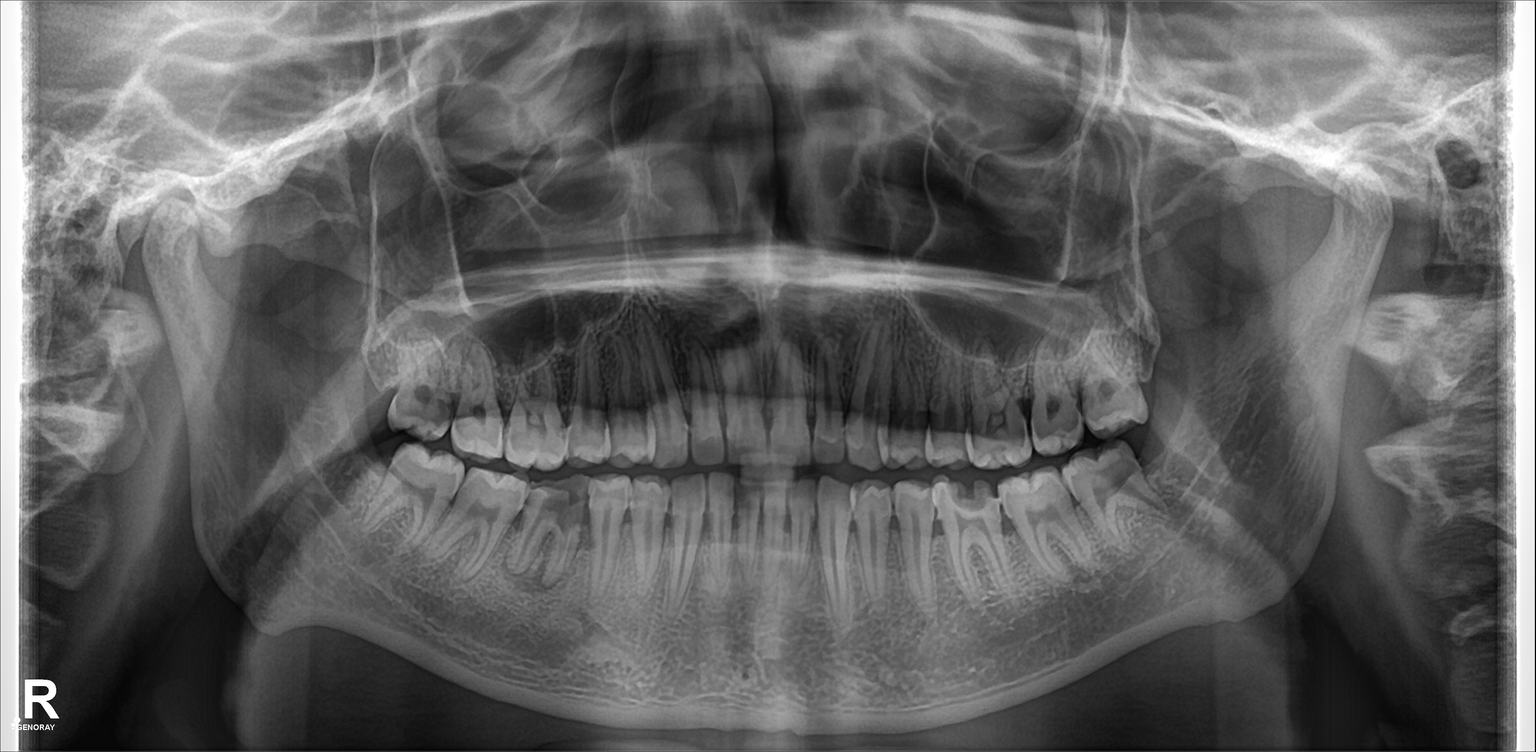Dental Caries: (521, 490, 588, 532), (939, 479, 994, 517), (410, 382, 454, 420)
Impacted Third Molar: (1078, 441, 1170, 541)
